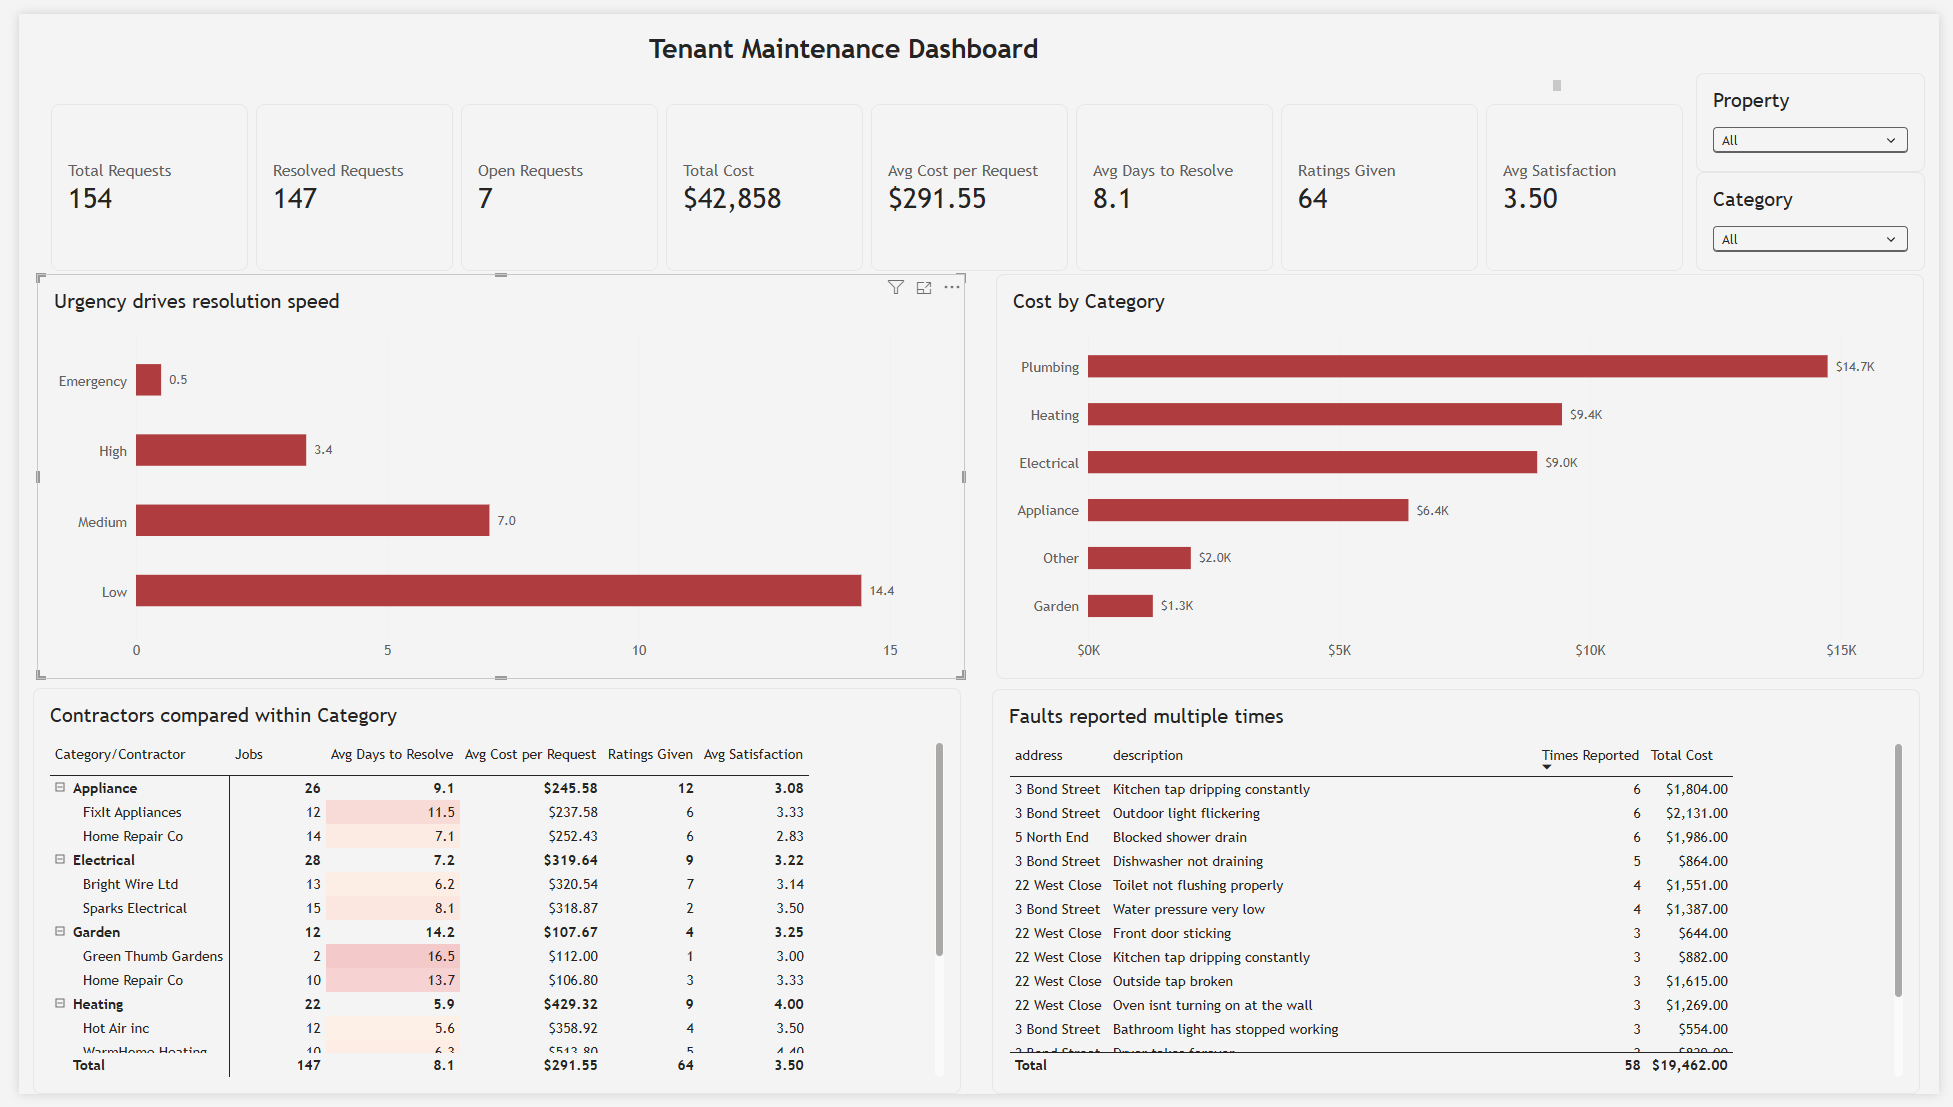

The page's visual inventory and layout, read from the dashboard file:
{"tool":"powerbi","page":{"name":"Page 1","canvas":[1920,1080],"ordinal":0},"visuals":[{"type":"cardVisual","fields":{"Data":["requests.Total Requests","requests.Resolved Requests","requests.Open Requests","requests.Total Cost","requests.Avg Cost per Request","requests.Avg Days to Resolve","requests.Ratings Given","requests.Avg Satisfaction"]},"box":[31.6,89.8,1634.3,167.3],"z":0},{"type":"listSlicer","title":"Property","fields":{"Values":["properties.address"]},"box":[1676.9,59.2,228.7,99.1],"z":1000},{"type":"listSlicer","title":"Category","fields":{"Values":["requests.issue_category"]},"box":[1676.9,158.3,228.7,99.1],"z":2000},{"type":"barChart","title":"Urgency drives resolution speed","fields":{"Category":["requests.urgency"],"Y":["requests.Avg Days to Resolve"]},"box":[18,259.7,927.6,405.4],"z":3000},{"type":"barChart","title":"Cost by Category","fields":{"Category":["requests.issue_category"],"Y":["requests.Total Cost"]},"box":[977,259.7,927.6,405.4],"z":4000},{"type":"pivotTable","title":"Contractors compared within Category","fields":{"Rows":["requests.issue_category","contractors.contractor_name"],"Values":["requests.Resolved Requests","requests.Avg Days to Resolve","requests.Avg Cost per Request","requests.Ratings Given","requests.Avg Satisfaction"]},"box":[14.3,674.3,927.6,405.4],"z":5000},{"type":"tableEx","title":"Faults reported multiple times","fields":{"Values":["properties.address","requests.description","requests.Total Requests","requests.Total Cost"]},"box":[973.1,674.7,928,405],"z":6000},{"type":"textbox","title":"Tenant Maintenance Dashboard","box":[107.1,19.4,1434.4,57.1],"z":8000}]}

Visuals, with their boxes in screenshot pixels (x1, y1, x2, y2), scaled from the page's 1920x1080 canvas onto the 1953x1107 screenshot:
cardVisual - requests.Total Requests x requests.Resolved Requests: bbox=(32, 92, 1695, 264)
"Property" listSlicer: bbox=(1706, 61, 1938, 162)
"Category" listSlicer: bbox=(1706, 162, 1938, 264)
"Urgency drives resolution speed" barChart: bbox=(18, 266, 962, 682)
"Cost by Category" barChart: bbox=(994, 266, 1937, 682)
"Contractors compared within Category" pivotTable: bbox=(15, 691, 958, 1106)
"Faults reported multiple times" tableEx: bbox=(990, 692, 1934, 1106)
"Tenant Maintenance Dashboard" textbox: bbox=(109, 20, 1568, 78)
